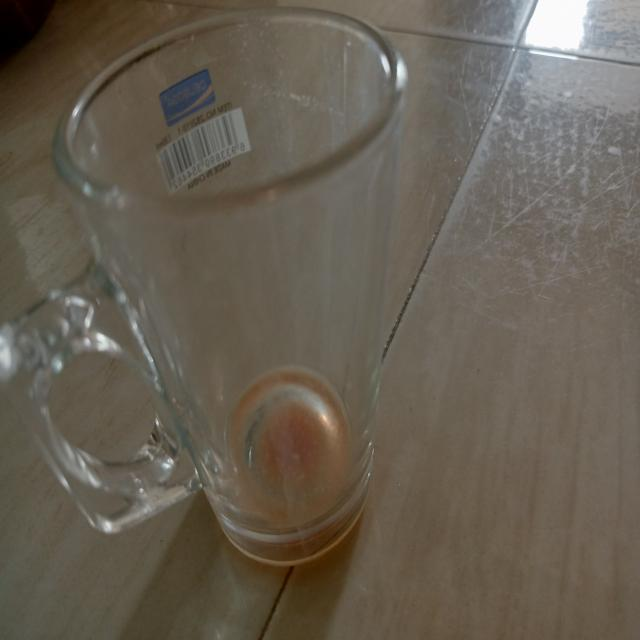glass-VX4N: (0, 8, 408, 568)
